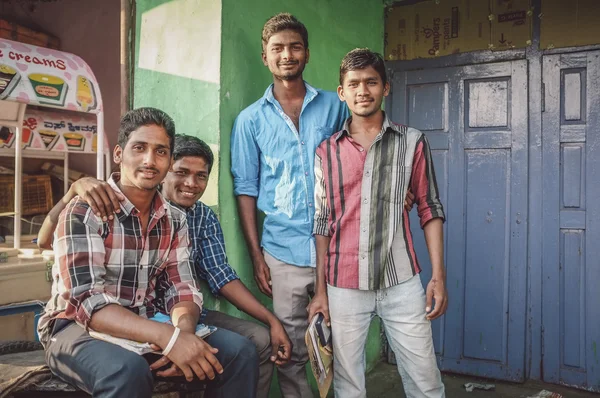men: (109, 104, 175, 196), (333, 44, 400, 125), (255, 9, 320, 86), (178, 126, 210, 208)
